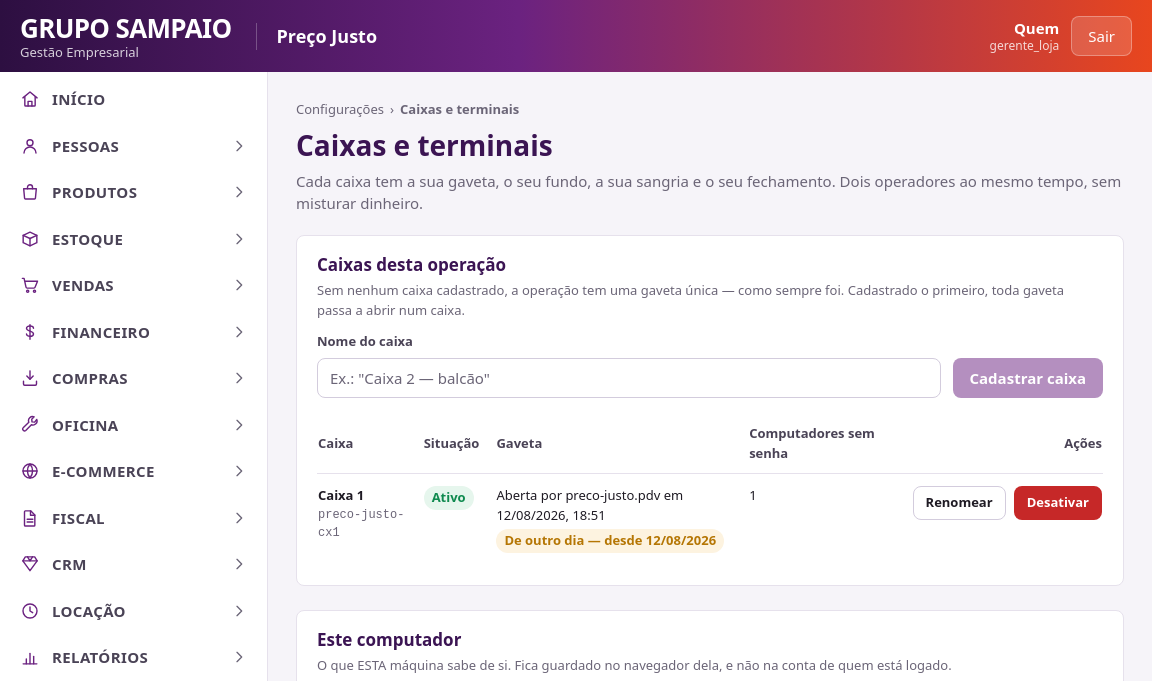
Test: o gerente cuida dos caixas da operação › desativar pede motivo — e a recusa de gaveta aberta aparece como veio
Click the button "Desativar" at (1058, 503), box [1014, 486, 1102, 520]
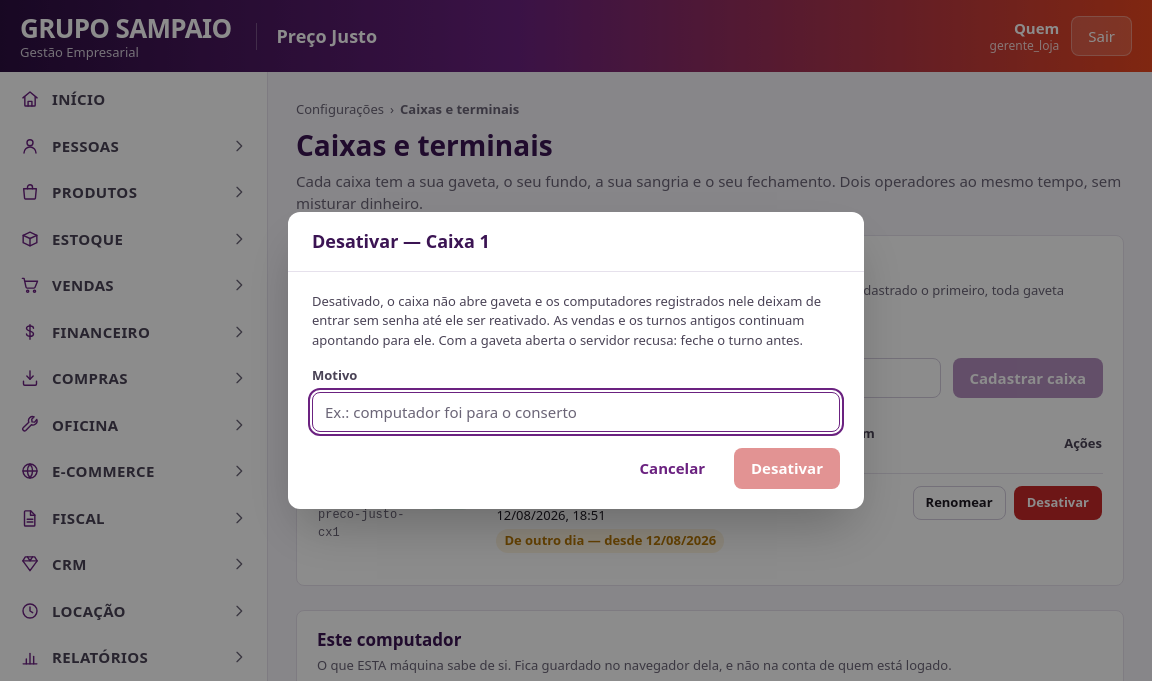
Result: the button "Desativar" is disabled at [734, 448, 840, 488]
Type "computador no conserto" into the field labelled "Motivo" at (576, 412), box [312, 392, 840, 432]
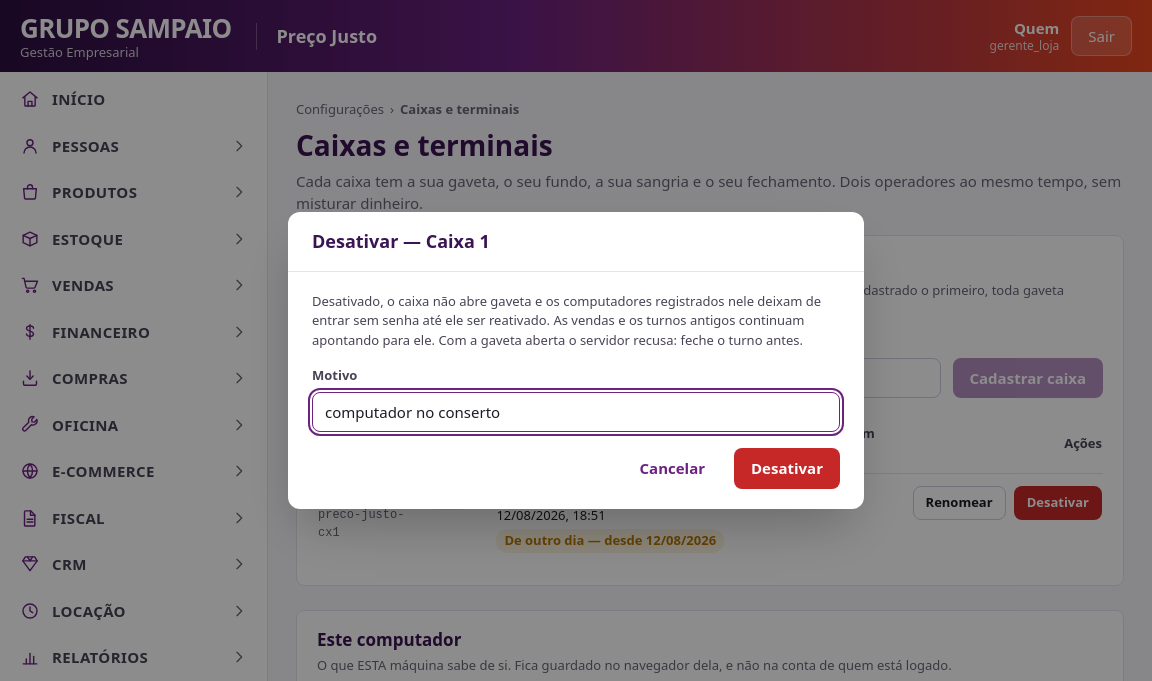
Click the button "Desativar" at (787, 468), box [734, 448, 840, 488]
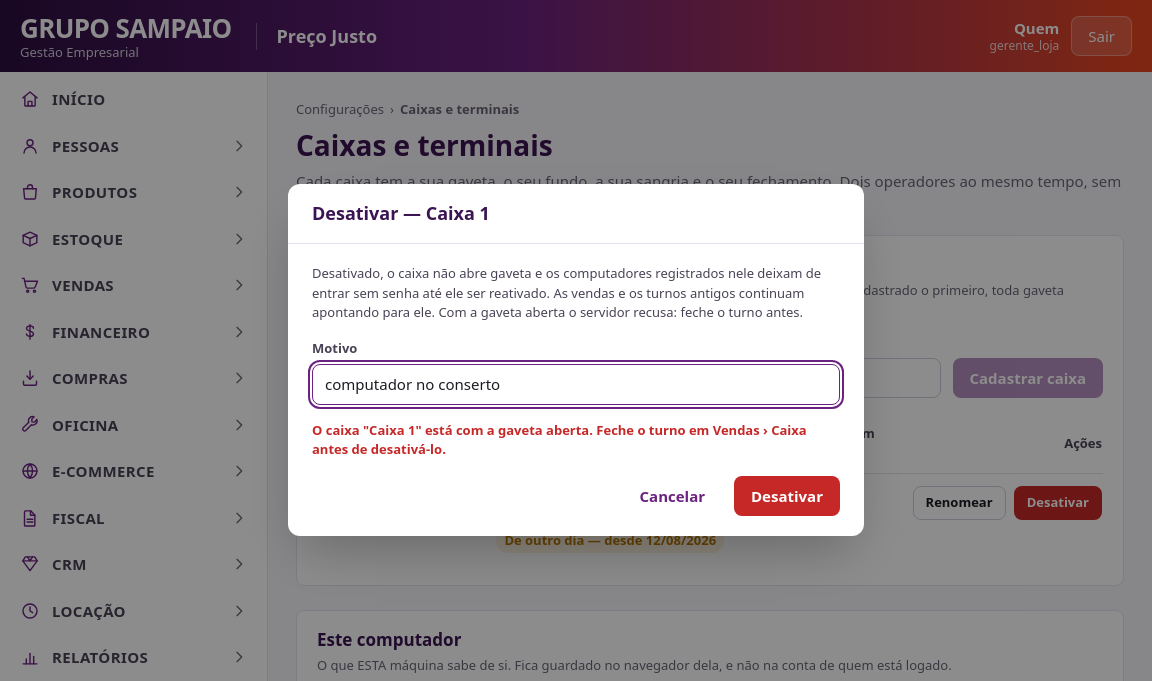
Result: the text "está com a gaveta aberta" is shown at [312, 420, 807, 458]
